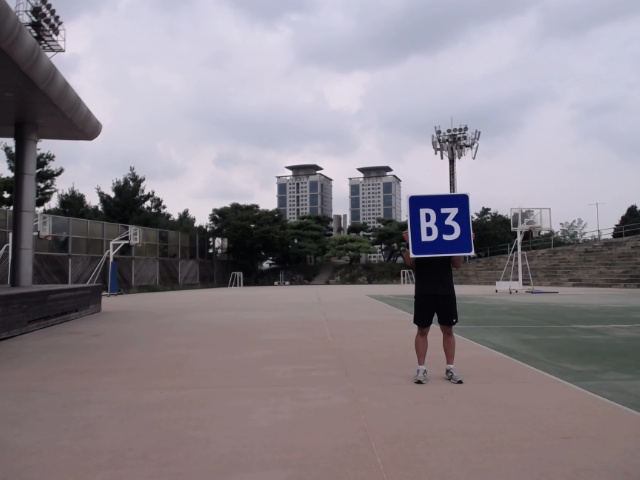delivery_b3: (406, 193, 476, 258)
